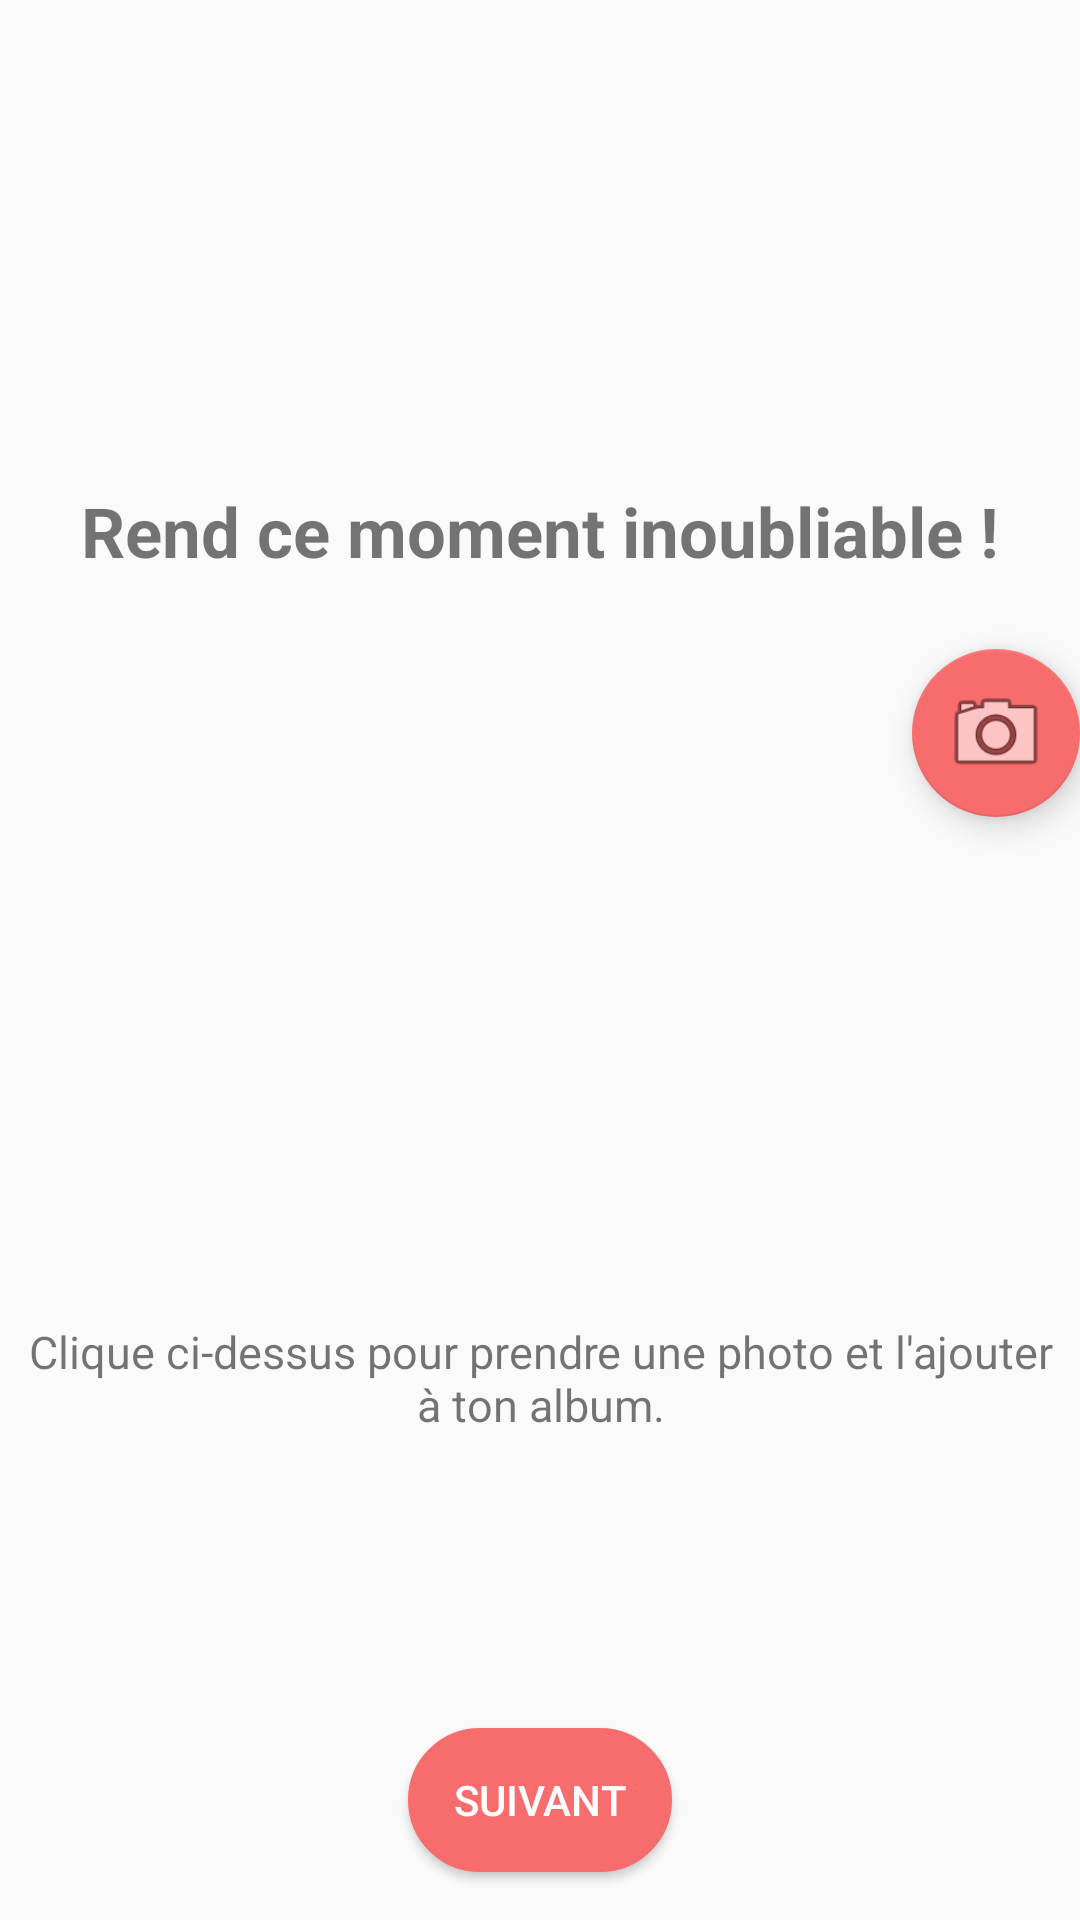

Point at icon controls on the screen. Image size 1080×1920, points as [x,y].
camera: [996,733]
